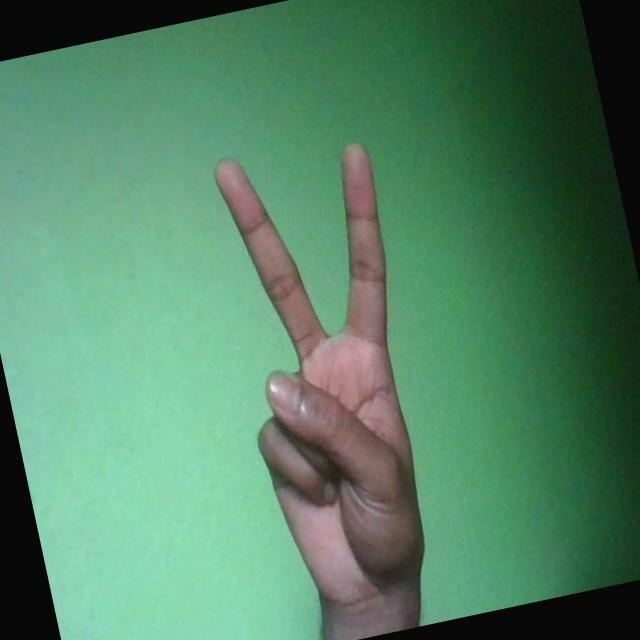Fist: (198, 127, 464, 636)
